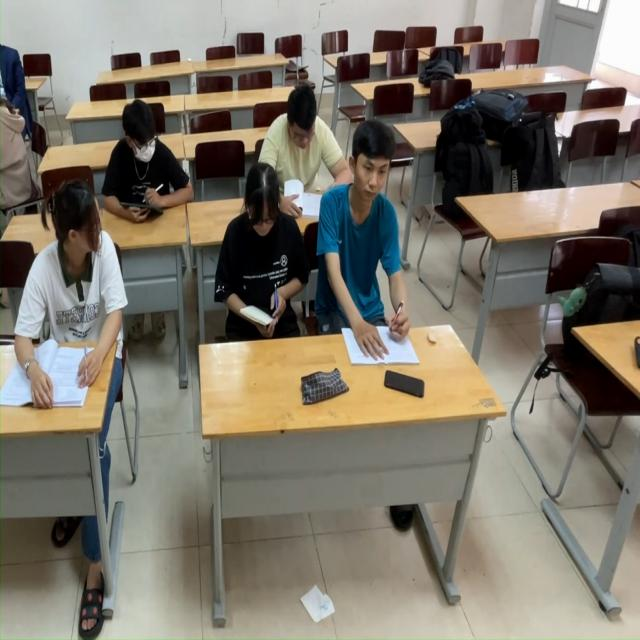read: (201, 164, 316, 344), (338, 135, 421, 350), (103, 98, 189, 235)
